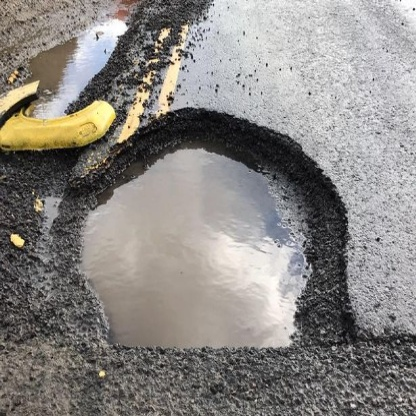pothole: (38, 111, 364, 375)
